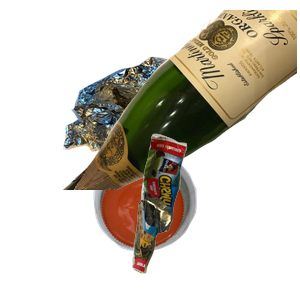glass: (60, 10, 300, 190)
metal: (61, 54, 225, 202)
plastic: (91, 152, 281, 300)
trash: (130, 131, 300, 300)
